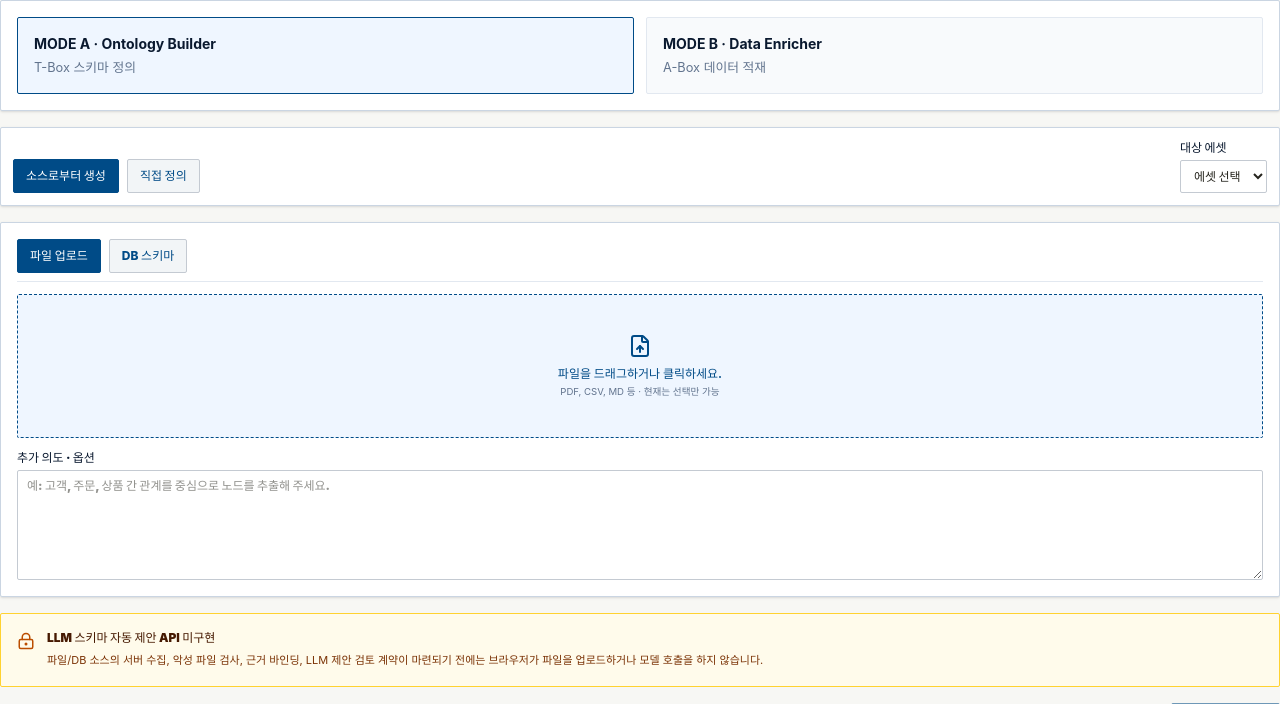
Test: KnowledgeIngestionStudio › disables governed source ingestion for CONFIDENTIAL graphs
Click the button "MODE B · Data Enricher A-Box 데이터 적재" at [742, 44], box [646,17,1263,94]
(page scrolled)
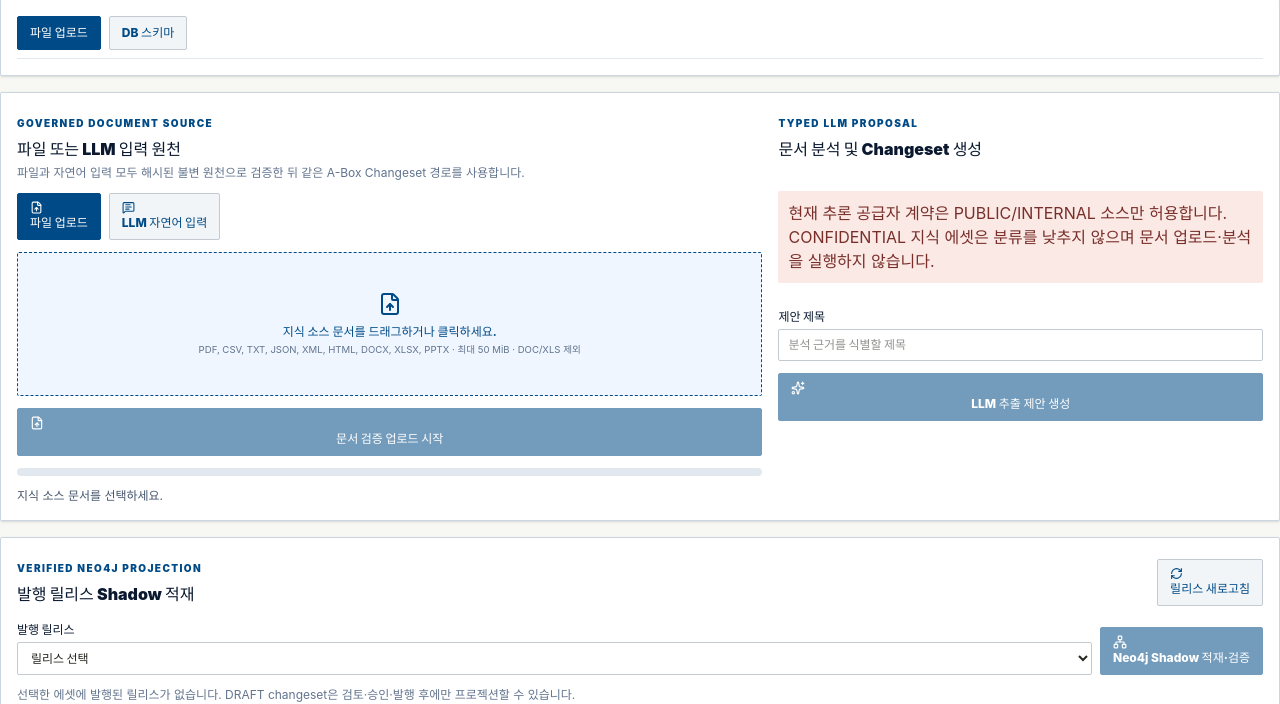
Check: the text "PUBLIC/INTERNAL 소스만 허용" is shown, box [788,203,1227,223]
Check: the file field named "지식 문서 소스" is disabled, box [16,108,36,124]
Check: the button "문서 검증 업로드 시작" is disabled, box [17,408,762,456]
